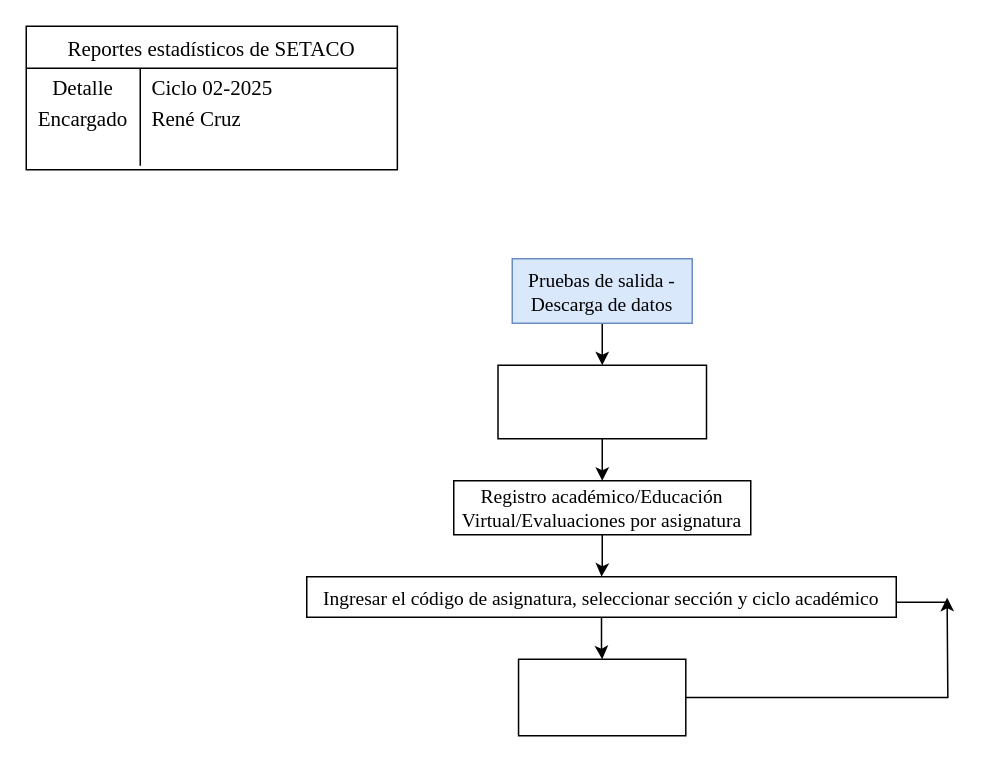
Some shapes in this 987 by 762 pixel diagram are drawn without their labels. Here are the shapes that lost their labels. From the top down, the centre of each, then its label:
point (601, 401): Ingresar con credenciales administrativas al portal empresarial
point (601, 697): Presionar consultar/Exportar Excel
